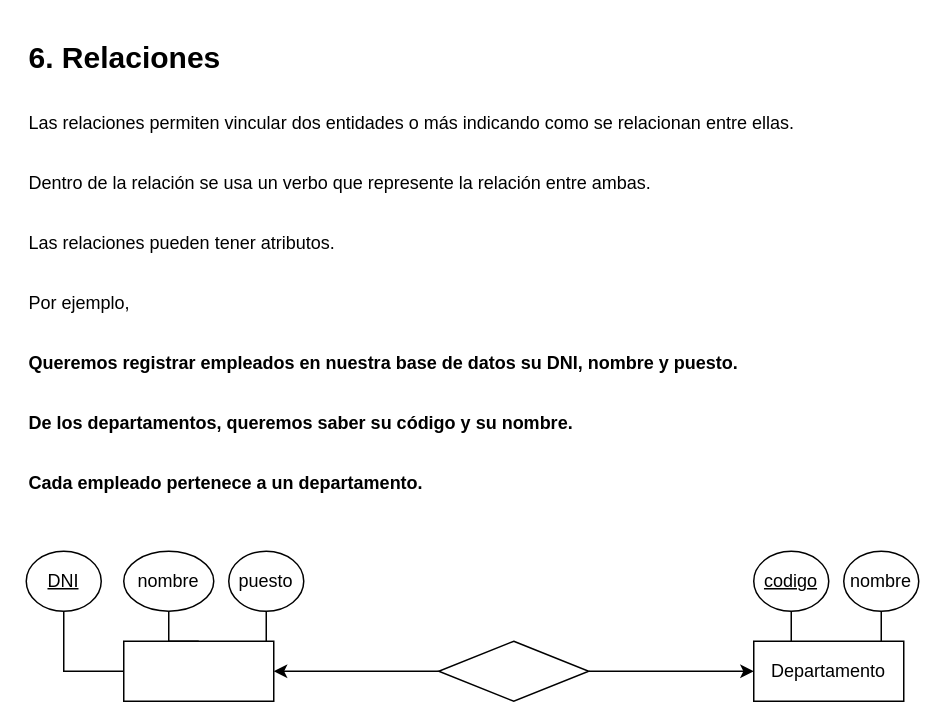
Some shapes in this 945 by 728 pixel diagram are drawn without their labels. Each missing label, with the centre of its shape:
Empleado: the point at 198,670
pertenece: the point at 513,670
